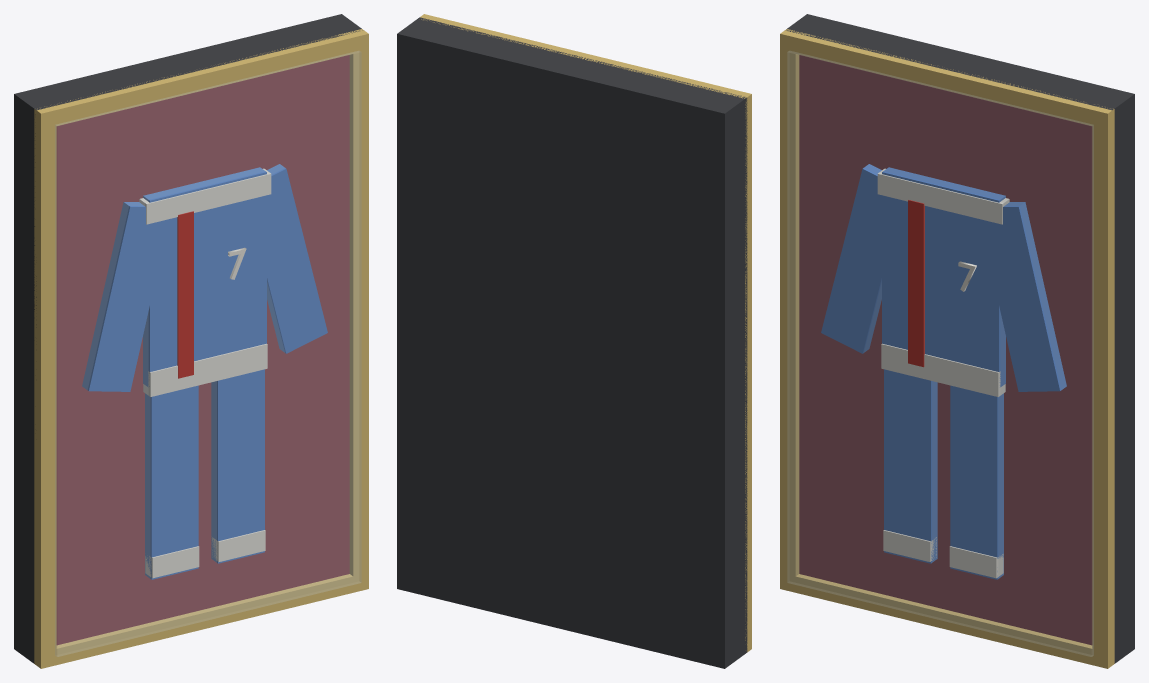
File: race_suit.glb
3 renders of one model, left to right at view 1: azimuth 30°, elevation 25°; view 2: azimuth 150°, elevation 25°; view 3: azimuth 330°, elevation 25°, orthographic.
Parts seen in each view (by area): view 1: race_suit; view 2: race_suit; view 3: race_suit.
Part boxes in pixels (x1,y1,x2,y2): race_suit: (14, 14, 368, 668); race_suit: (397, 14, 751, 668); race_suit: (780, 14, 1134, 668).
Size of the model in its own units: 0.84 by 1.36 by 0.142.
